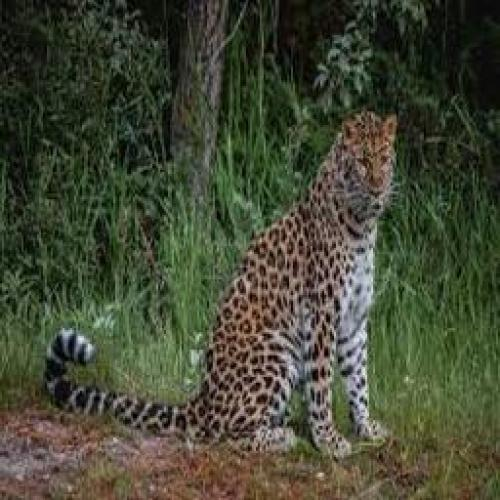amur_leopard-endangered: (46, 111, 399, 458)
